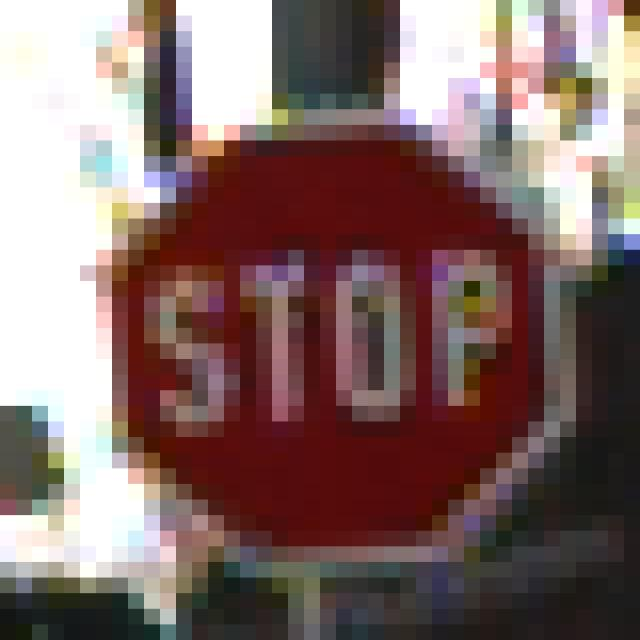STOP: (81, 95, 545, 547)
